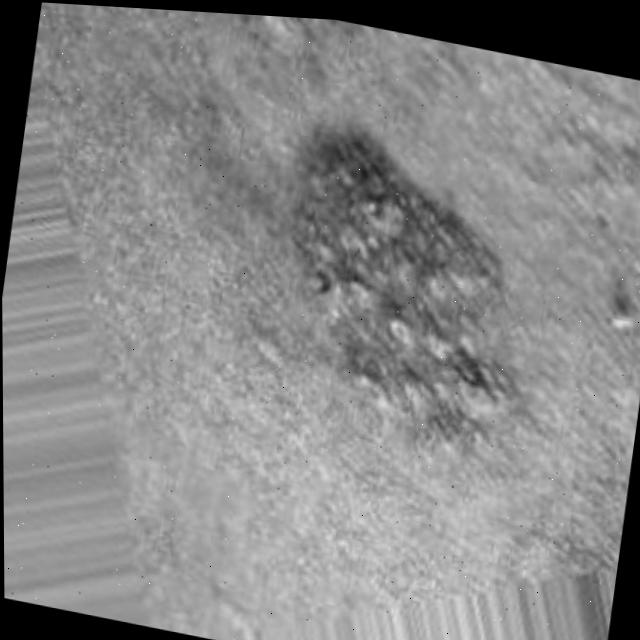Shingles: (257, 125, 528, 428), (229, 14, 328, 55)
